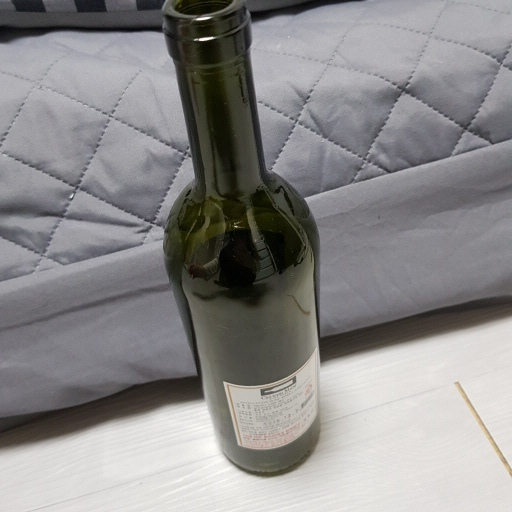Glass_2: (149, 1, 332, 477)
